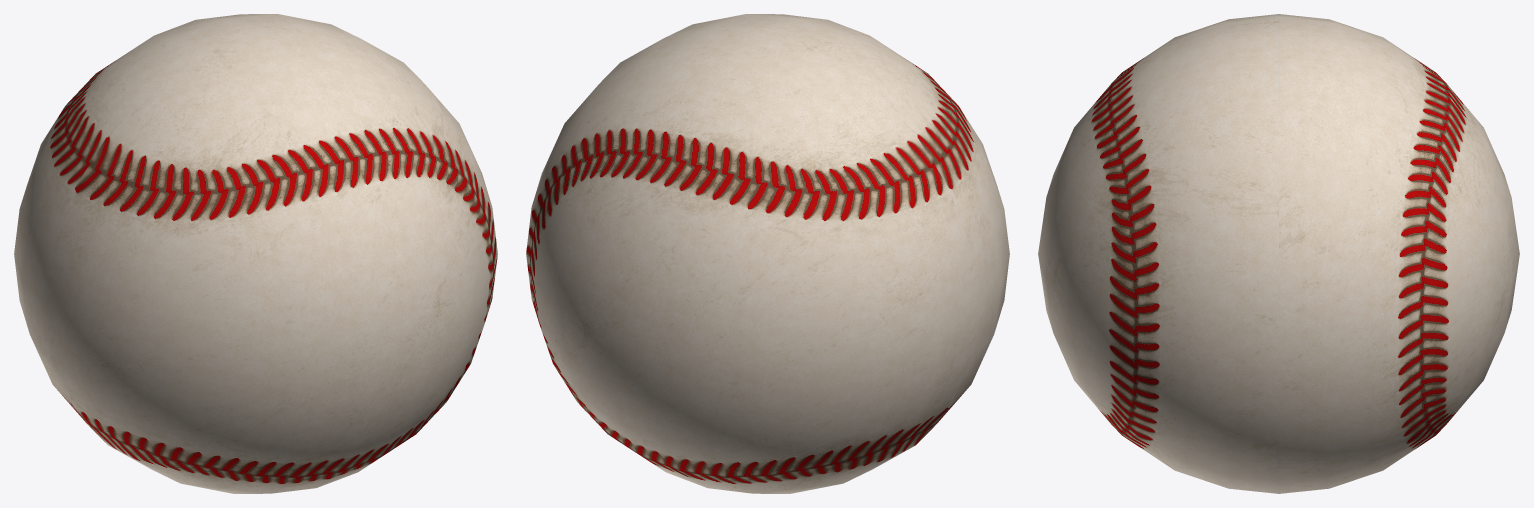
File: BaseBall.fbx
3 renders of one model, left to right at view 1: azimuth 30°, elevation 25°; view 2: azimuth 150°, elevation 25°; view 3: azimuth 270°, elevation 25°, orthographic.
Parts seen in each view (by area): view 1: Baseball; view 2: Baseball; view 3: Baseball.
Boxes of the visible parts, x1,y1,x2,y2 form: Baseball: (14,14,497,493); Baseball: (526,14,1009,493); Baseball: (1038,14,1519,493).
Size of the model in its own units: 7.3 by 7.3 by 7.3.
